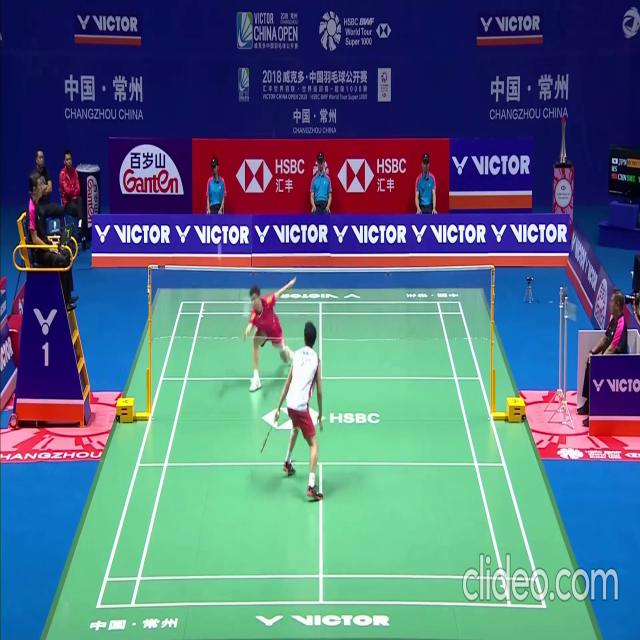Shuttlecock: (218, 246, 222, 254)
